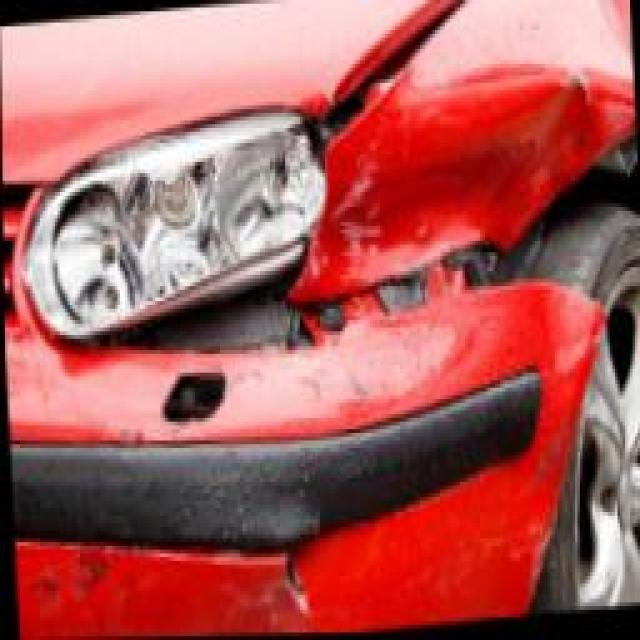Bumper: (72, 297, 586, 638)
Fender: (298, 23, 591, 295)
